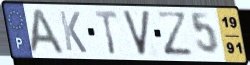5: (188, 12, 223, 60)
A: (28, 7, 67, 56)
K: (57, 9, 89, 55)
T: (93, 10, 120, 57)
V: (120, 9, 152, 58)
Z: (154, 10, 196, 58)
